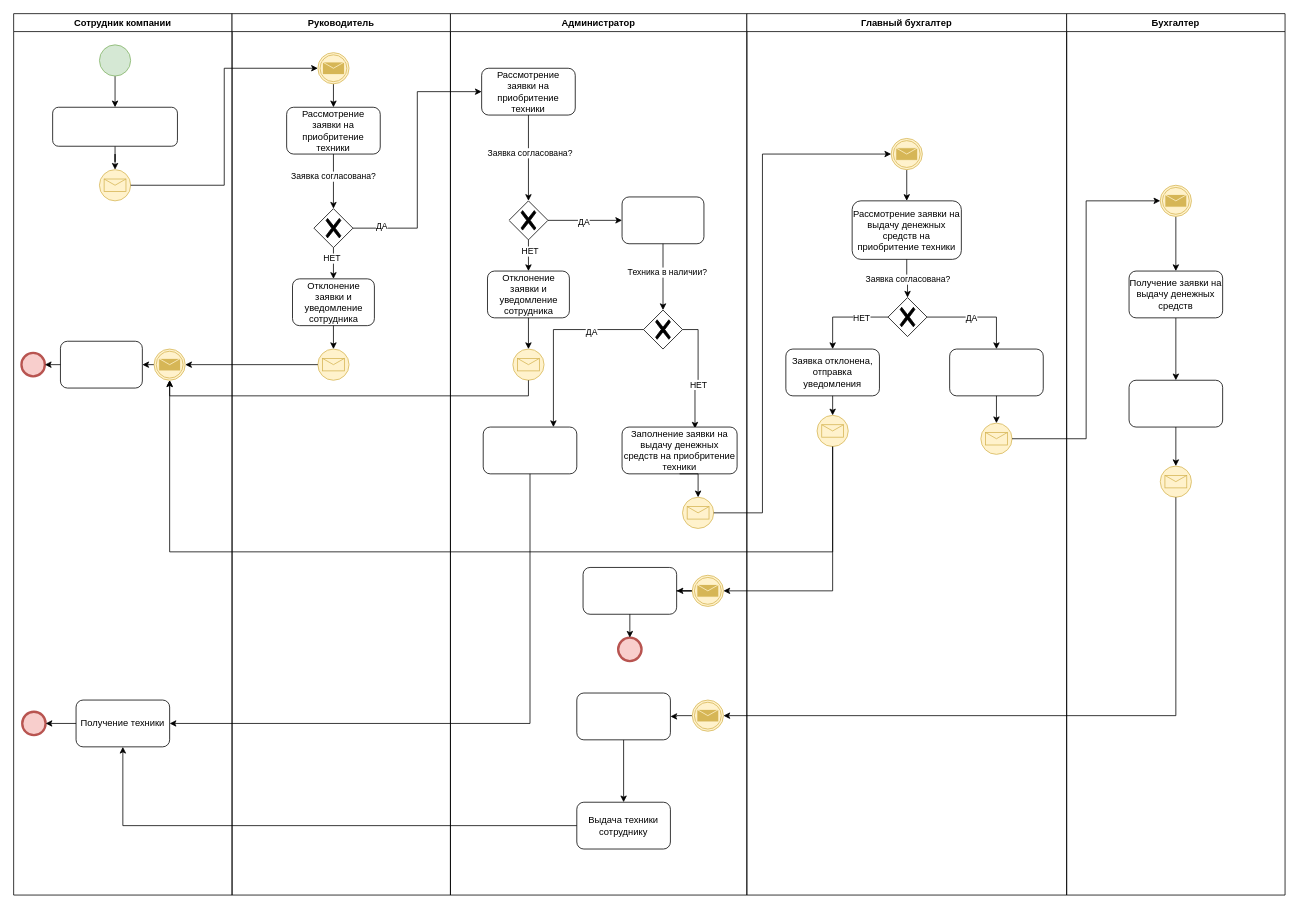
Some shapes in this 1299 by 909 pixel diagram are drawn without their labels. Here are the shapes that lost their labels. From the top down, the centre of each, then its label:
the point at 114,126: Заполнение заявки на приобритение техники
the point at 662,220: Проверить наличие техники на складе
the point at 101,364: Получение уведомления об отклонении заявки
the point at 996,372: Заявка согласована, отправление заявки на выдачу денежных средств
the point at 1175,403: Выдача денежных средств
the point at 529,450: Выдать сотруднику технику
the point at 629,590: Получение уведомления об отлонении заявки
the point at 623,716: Получение денежных средств и покупка техники
